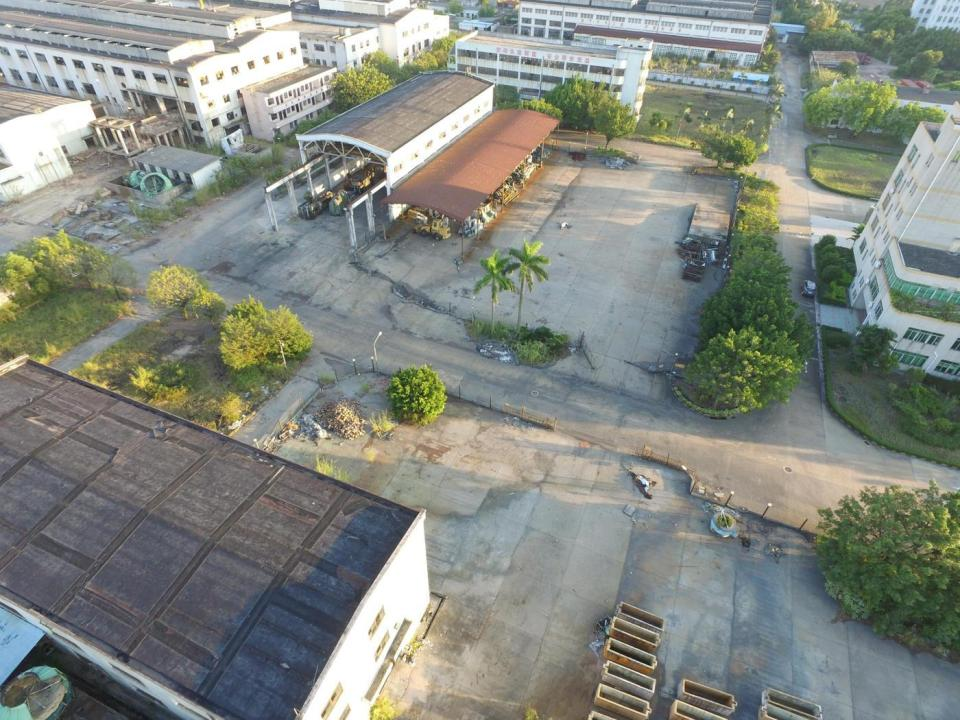car: (801, 278, 818, 298)
